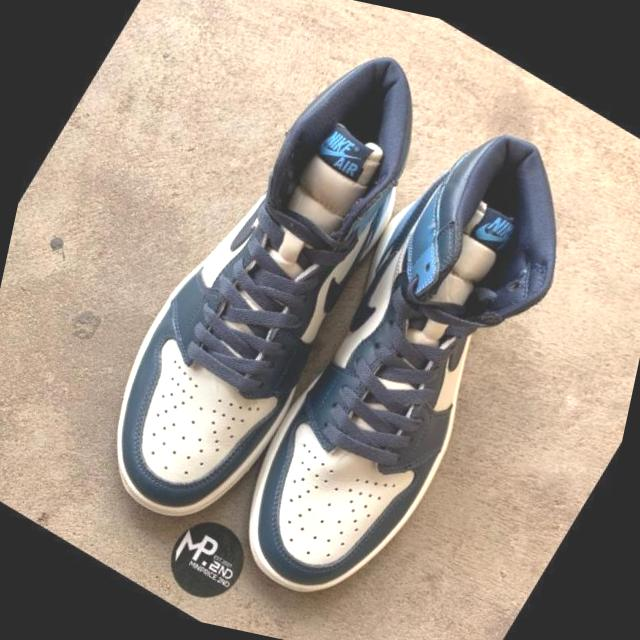nike_original_jordan: (189, 71, 624, 640), (54, 0, 480, 580)
